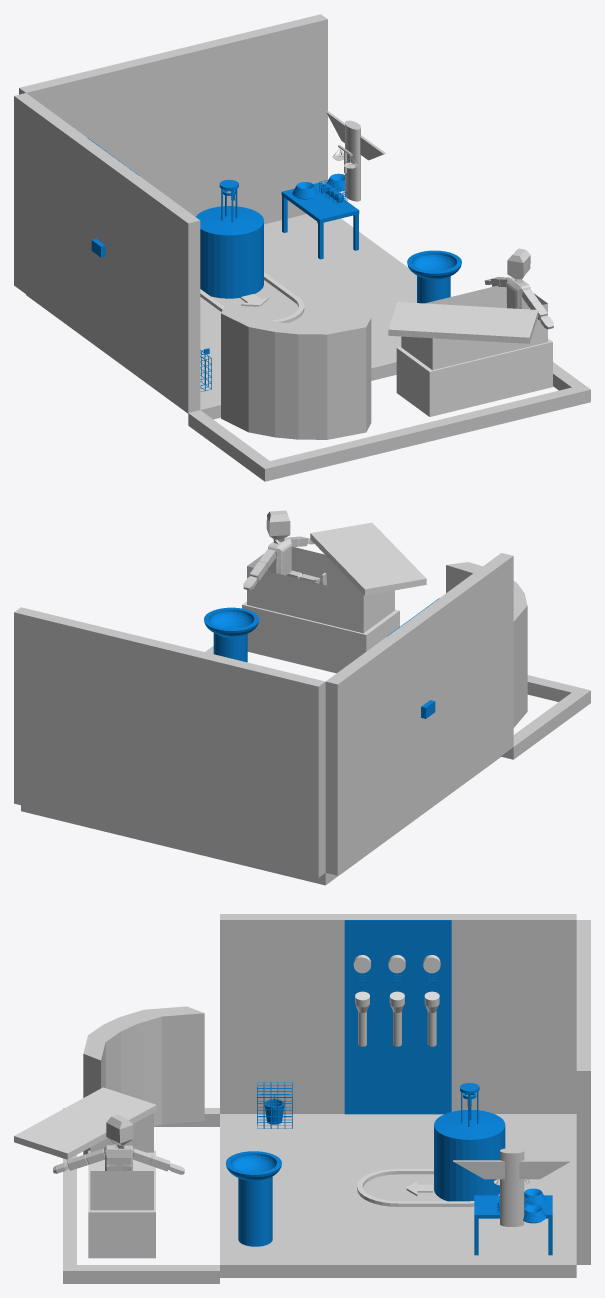
The model's file is whole_scene.fbx.
3 views of the same model, one above another, from view 1: azimuth 30°, elevation 25°; view 2: azimuth 150°, elevation 25°; view 3: azimuth 270°, elevation 25° (orthographic). The views are drawn at different scales.
Parts seen in each view (by area): view 1: WallNorth_0.2x5x3, Wall_West0.2x5x3, TextCanvas, Floor5x5x0.2, Sarcofagus, FloorMummy, Pillar, RiddleAnswerBase, TableScale, StatueMaat, MummyAsset, PilarRail (+1 smaller); view 2: WallNorth_0.2x5x3, Wall_West0.2x5x3, Sarcofagus, FloorMummy, TextCanvas, MummyAsset, Floor5x5x0.2, RiddleAnswerBase; view 3: Wall_West0.2x5x3, Floor5x5x0.2, CardboardWall, Sarcofagus, TextCanvas, Pillar, WallNorth_0.2x5x3, FloorMummy, RiddleAnswerBase, StatueMaat, Torches, MummyAsset (+4 smaller).
Part boxes in pixels (x1,y1,x2,y2): WallNorth_0.2x5x3: (19, 14, 327, 224); Wall_West0.2x5x3: (14, 93, 200, 412); TextCanvas: (221, 303, 371, 439); Floor5x5x0.2: (26, 214, 416, 419); Sarcofagus: (388, 285, 552, 416); FloorMummy: (188, 362, 590, 481); Pillar: (196, 179, 263, 298); RiddleAnswerBase: (407, 250, 461, 303); TableScale: (281, 182, 359, 259); StatueMaat: (326, 111, 385, 201); MummyAsset: (484, 248, 553, 329); PilarRail: (200, 272, 304, 322); WallNorth_0.2x5x3: (14, 607, 325, 877); Wall_West0.2x5x3: (325, 553, 513, 875); Sarcofagus: (242, 522, 426, 673); FloorMummy: (205, 646, 590, 759); TextCanvas: (446, 562, 527, 727); MummyAsset: (243, 510, 326, 590); Floor5x5x0.2: (21, 756, 501, 885); RiddleAnswerBase: (204, 607, 259, 662); Wall_West0.2x5x3: (220, 914, 576, 1113); Floor5x5x0.2: (220, 1114, 576, 1277); CardboardWall: (344, 920, 451, 1114); Sarcofagus: (14, 1087, 156, 1258); TextCanvas: (83, 1006, 204, 1154); Pillar: (434, 1083, 505, 1201); WallNorth_0.2x5x3: (576, 920, 590, 1264); FloorMummy: (63, 1108, 219, 1283); RiddleAnswerBase: (226, 1151, 281, 1246); StatueMaat: (453, 1148, 571, 1226); Torches: (353, 955, 440, 1046); MummyAsset: (53, 1114, 184, 1174).
Bounding box in the file's own units: 548 × 320 × 808.
